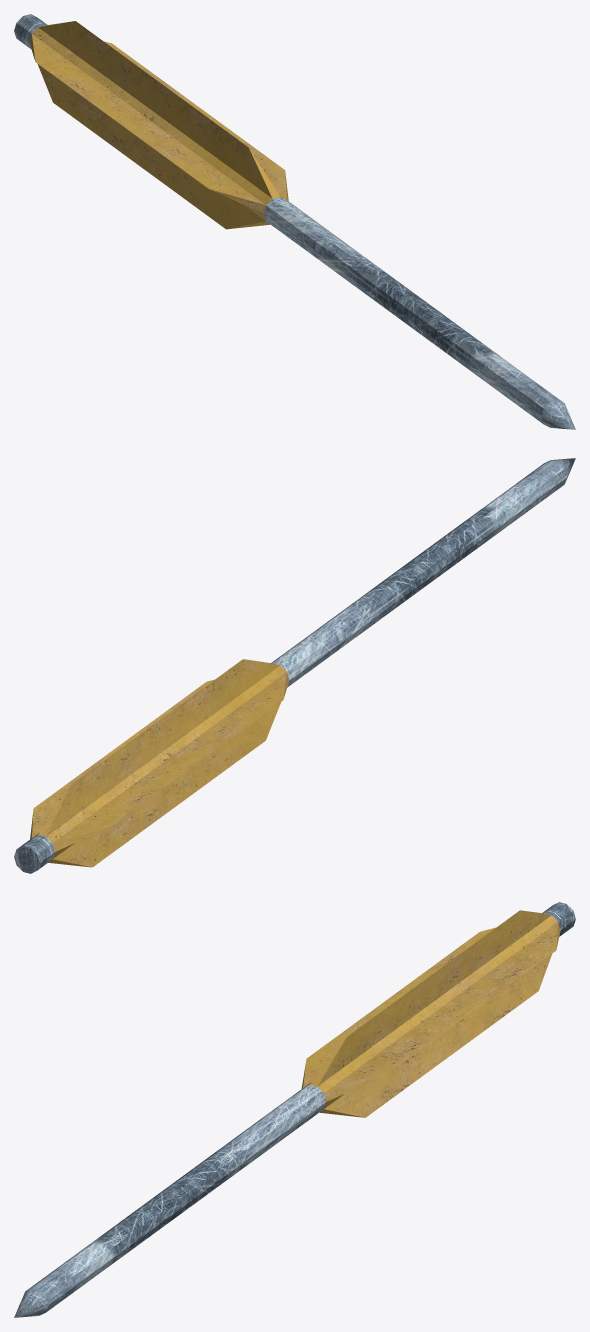
The model's file is ArrowNew.fbx.
3 views of the same model, one above another, from view 1: azimuth 30°, elevation 25°; view 2: azimuth 150°, elevation 25°; view 3: azimuth 330°, elevation 25° (orthographic).
Parts seen in each view (by area): view 1: ArrowNew; view 2: ArrowNew; view 3: ArrowNew.
Boxes of the visible parts, box(x1,y1,x2,y2) form: ArrowNew: box(14, 14, 575, 429); ArrowNew: box(14, 458, 575, 873); ArrowNew: box(14, 902, 575, 1317).
Bounding box in the file's own units: 0.8269 × 0.7864 × 10.27.
1 material, 1 textured.
